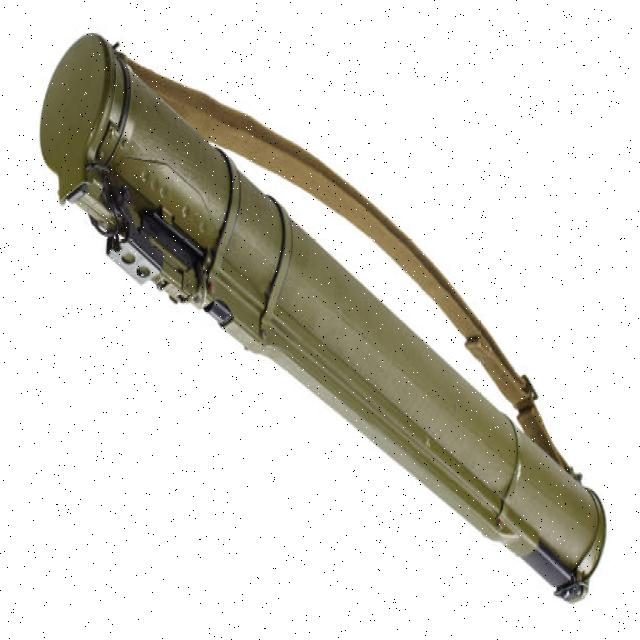bazooka: (34, 21, 615, 617)
